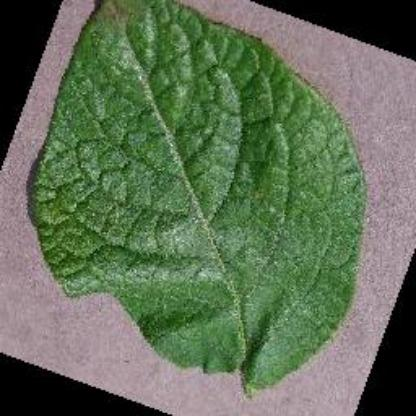Healthy-plant: (30, 0, 366, 392)
